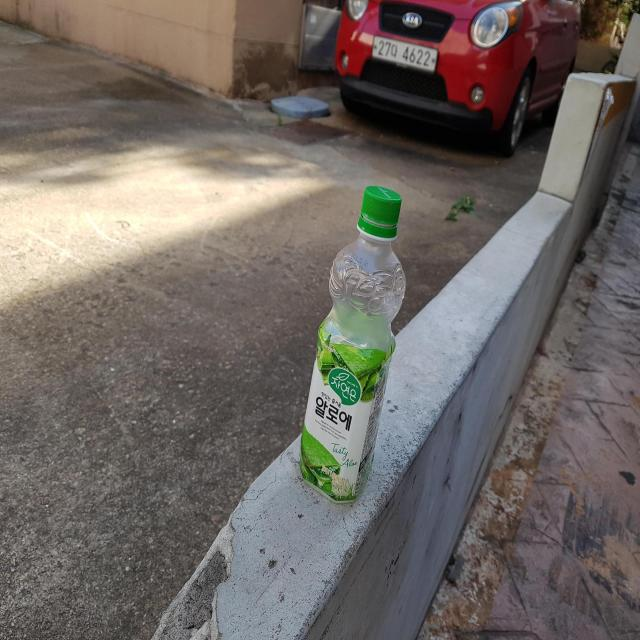plastic: (300, 185, 406, 503)
